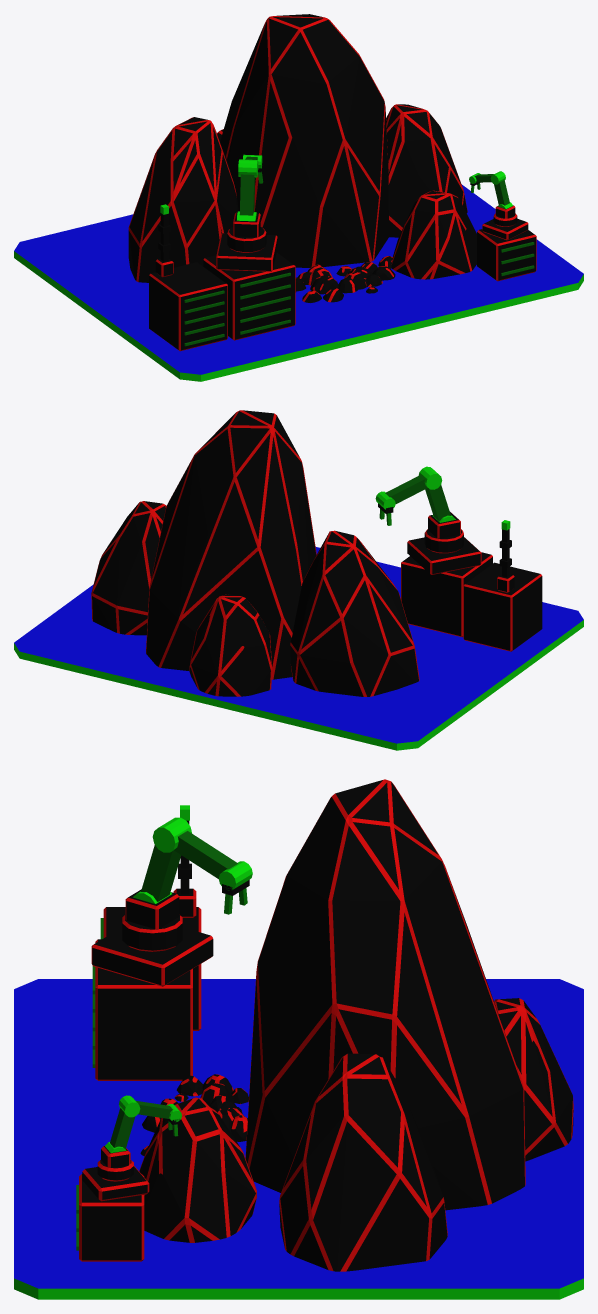
Rendered from SM_Holo_OreMine_T2.fbx.
3 views of the same model, one above another, from view 1: azimuth 30°, elevation 25°; view 2: azimuth 150°, elevation 25°; view 3: azimuth 270°, elevation 25° (orthographic). The views are drawn at different scales.
Parts seen in each view (by area): view 1: SM_Holo_OreMine_T2; view 2: SM_Holo_OreMine_T2; view 3: SM_Holo_OreMine_T2.
Boxes of the visible parts, x1=… form: SM_Holo_OreMine_T2: x1=14, y1=14, x2=583, y2=381; SM_Holo_OreMine_T2: x1=14, y1=410, x2=583, y2=750; SM_Holo_OreMine_T2: x1=14, y1=779, x2=583, y2=1299.
Bounding box in the file's own units: 18 × 9.9 × 14.
